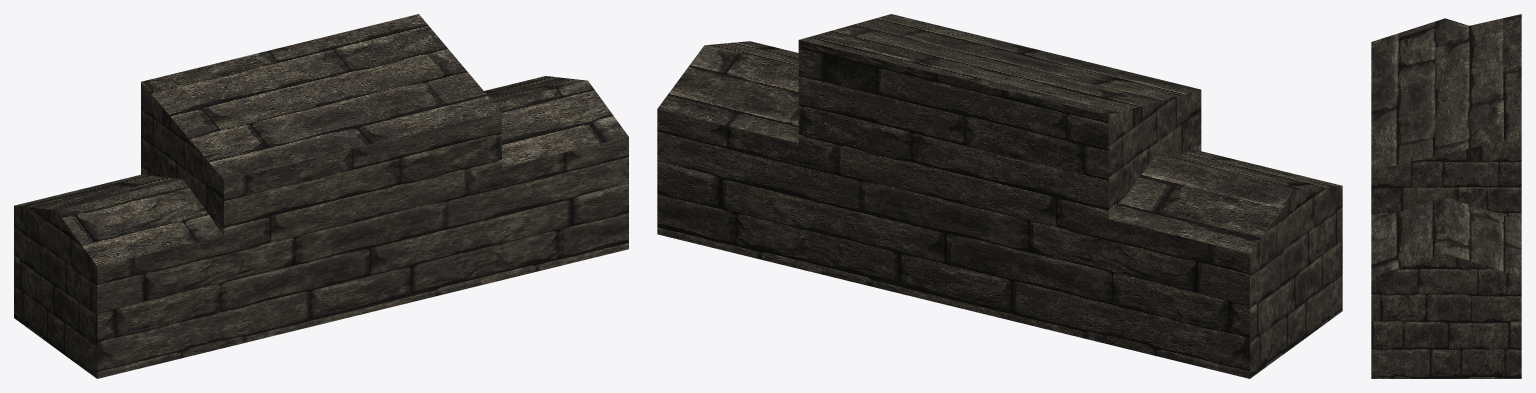
Rendered from Rampant_SideRailing.fbx.
3 views of the same model, side by side, from view 1: azimuth 30°, elevation 25°; view 2: azimuth 150°, elevation 25°; view 3: azimuth 270°, elevation 25° (orthographic). The views are drawn at different scales.
Parts seen in each view (by area): view 1: RampantTop_Sidewall; view 2: RampantTop_Sidewall; view 3: RampantTop_Sidewall.
Boxes of the visible parts, bbox=[...] form: RampantTop_Sidewall: bbox=[14, 14, 628, 378]; RampantTop_Sidewall: bbox=[657, 14, 1342, 378]; RampantTop_Sidewall: bbox=[1371, 14, 1521, 378].
Size of the model in its own units: 5.36 by 1.98 by 1.45.
Materials: 1 (1 with a texture image).
